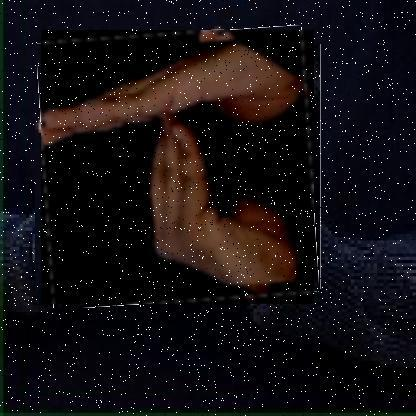Z: (40, 30, 314, 305)
